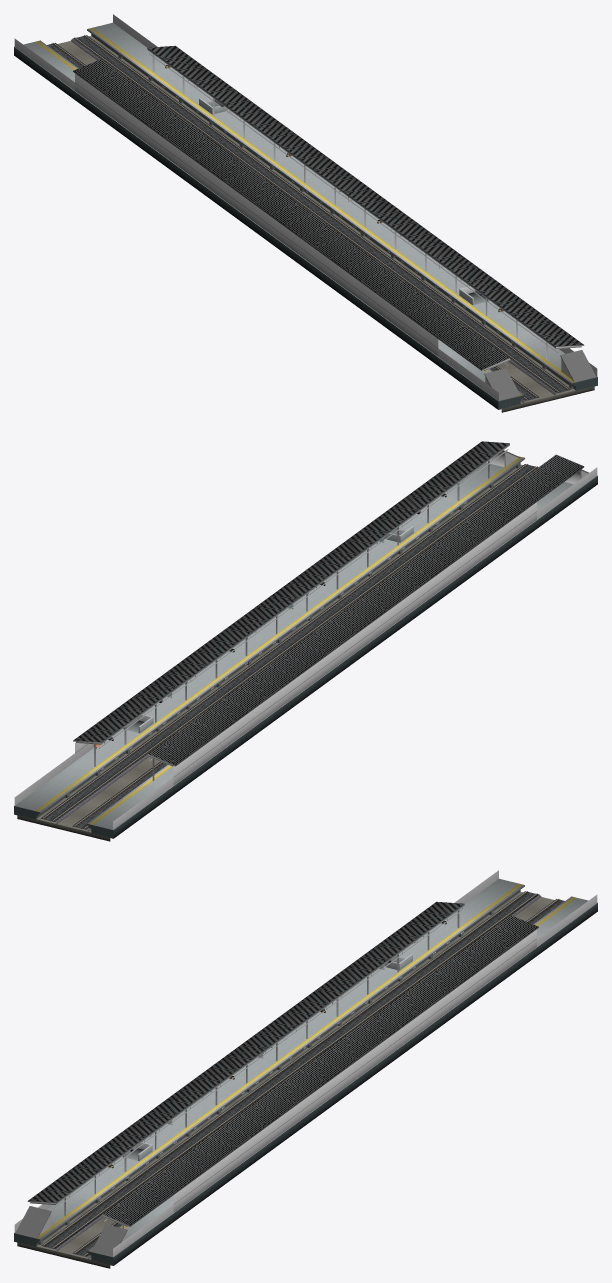
The model's file is HANKYU_TAIMEN_ST_KYO.glb.
3 views of the same model, one above another, from view 1: azimuth 30°, elevation 25°; view 2: azimuth 150°, elevation 25°; view 3: azimuth 330°, elevation 25° (orthographic).
Visible parts, largest first — view 1: home, bone_04-31, bone_32; view 2: home, bone_04-31; view 3: home, bone_04-31, bone_32.
Boxes of the visible parts, x1,y1,x2,y2 form: home: [14, 14, 597, 412]; bone_04-31: [73, 45, 584, 370]; bone_32: [484, 350, 596, 400]; home: [14, 456, 597, 841]; bone_04-31: [73, 441, 584, 766]; home: [14, 870, 597, 1268]; bone_04-31: [27, 901, 538, 1226]; bone_32: [15, 1206, 127, 1256].
Bounding box in the file's own units: 48.81 × 17.26 × 400.
100 materials, 99 textured.
